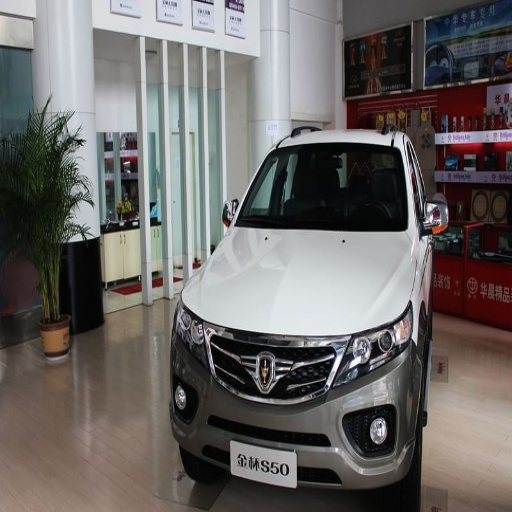front_bumper: (172, 319, 423, 487)
hood: (185, 227, 418, 332)
